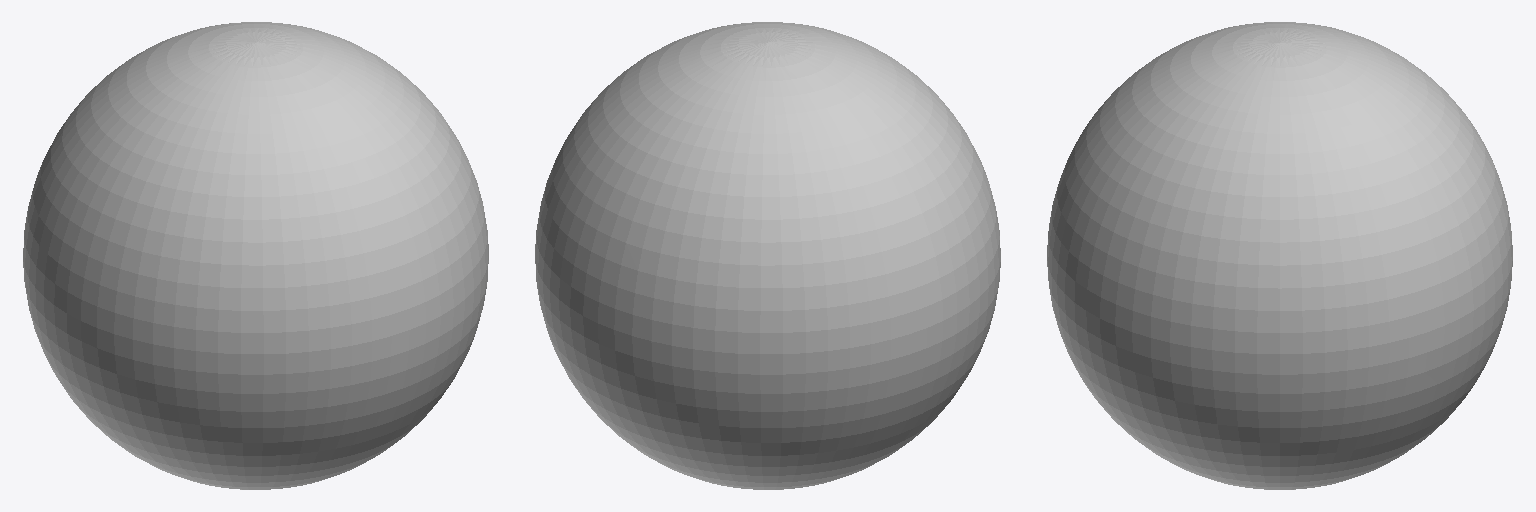
File: mars.obj
3 views of the same model, side by side, from view 1: azimuth 30°, elevation 25°; view 2: azimuth 150°, elevation 25°; view 3: azimuth 270°, elevation 25° (orthographic).
Visible parts, largest first — view 1: Mars; view 2: Mars; view 3: Mars.
Part boxes in pixels (bbox=[...]): Mars: bbox=[23, 22, 488, 489]; Mars: bbox=[535, 22, 1000, 489]; Mars: bbox=[1047, 22, 1512, 489].
Bounding box in the file's own units: 0.4792 × 0.4842 × 0.4792.